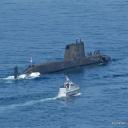submarine: (14, 42, 116, 79)
